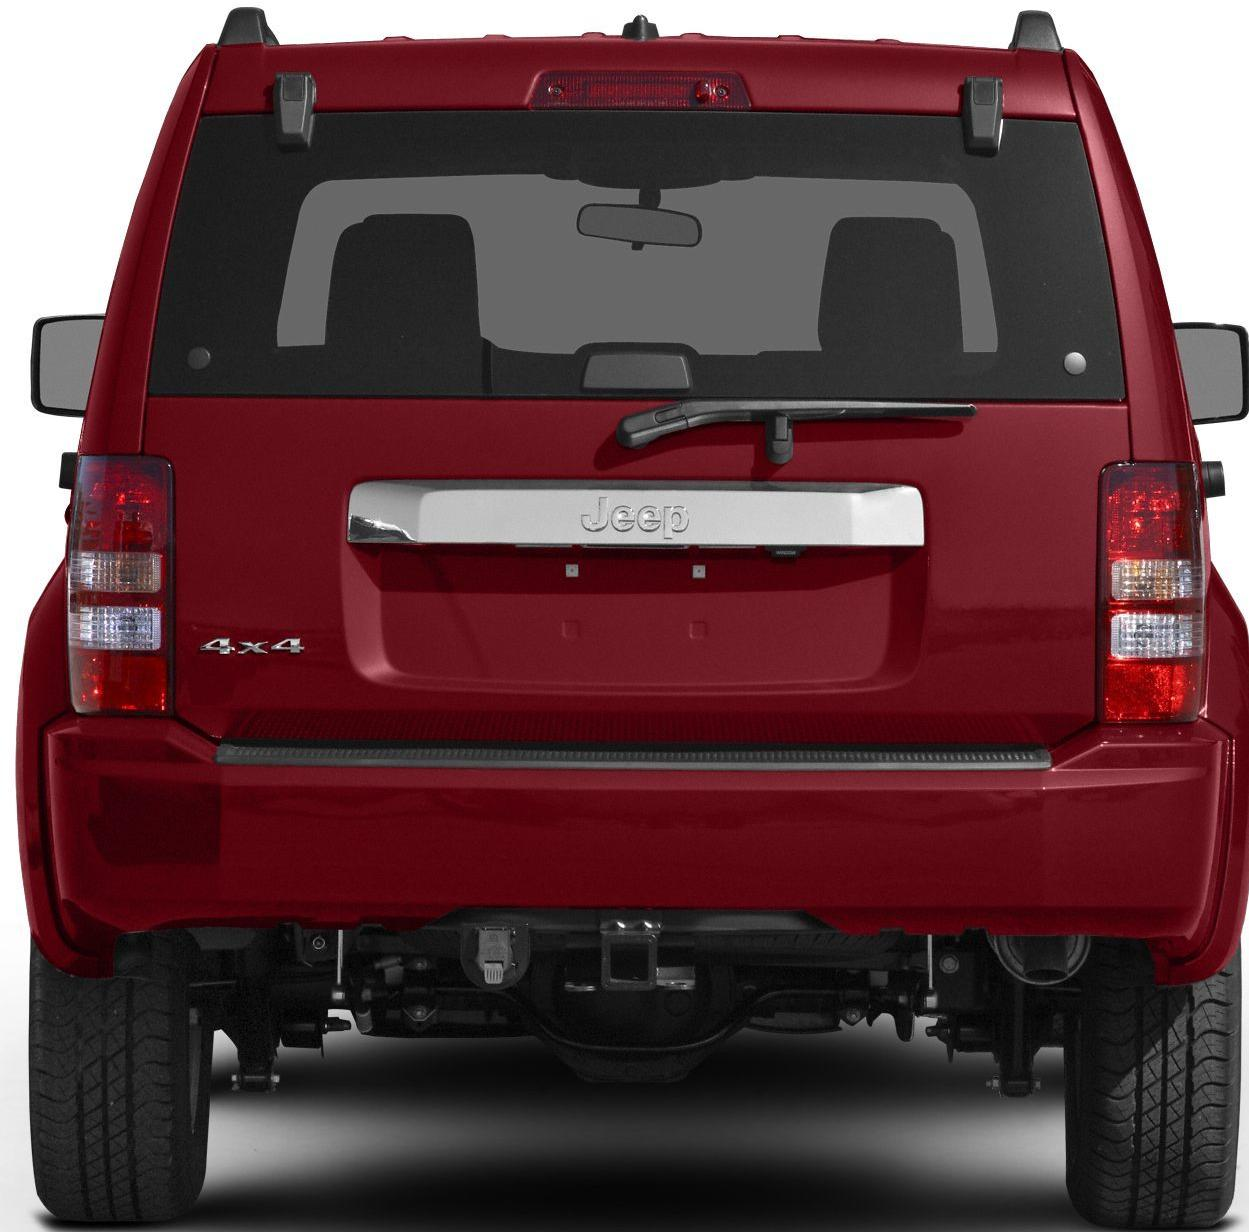back_view: (46, 379, 1225, 948)
backlight: (55, 439, 184, 725)
